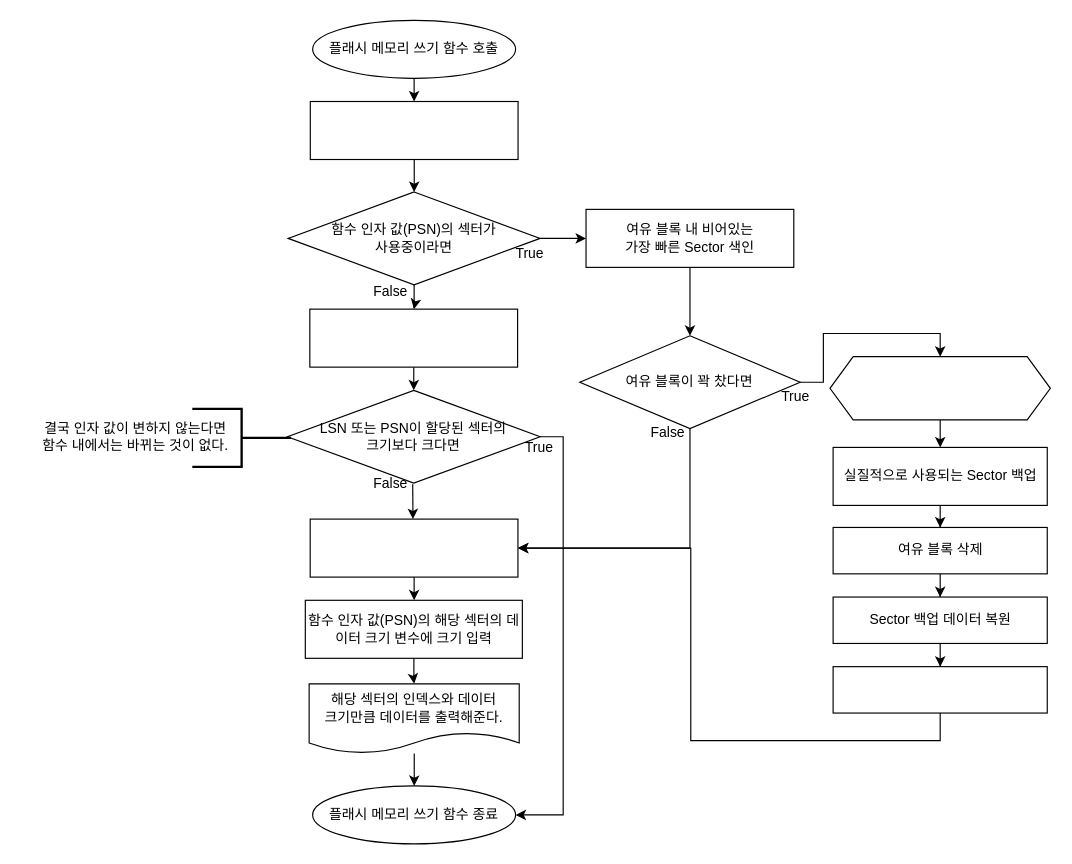
Some shapes in this 1072 by 864 pixel diagram are drawn without their labels. Each missing label, with the centre of its shape:
RAM에 임시 데이터 공간 선언: point 939,388
비어있는 Sector return: point 939,689
입력된 LSN을 기반으로 Mapping 된 PSN 계산: point 413,130
함수의 인자 값(LSN), PSN과 할당된 섹터의 크기를 비교: point 413,337
함수의 인자 값(PSN)에 입력하고자 하는 데이터 입력: point 413,547
